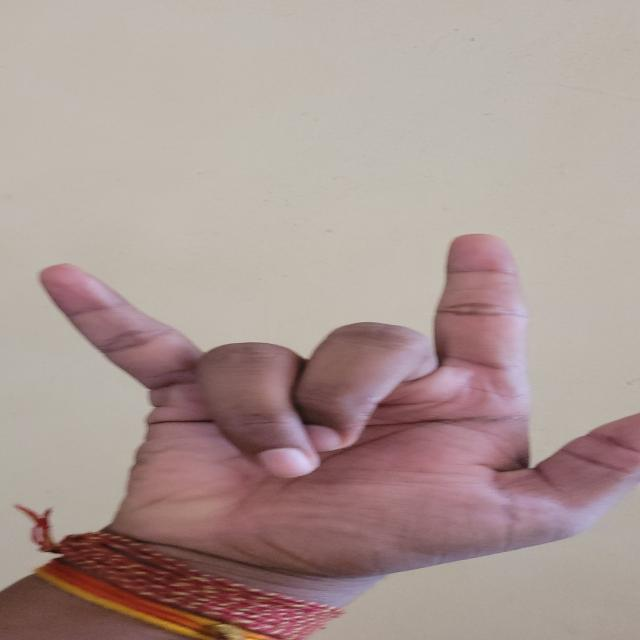i like you: (1, 221, 640, 640)
